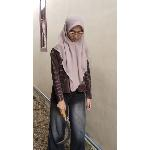Celurit: (50, 102, 80, 146)
